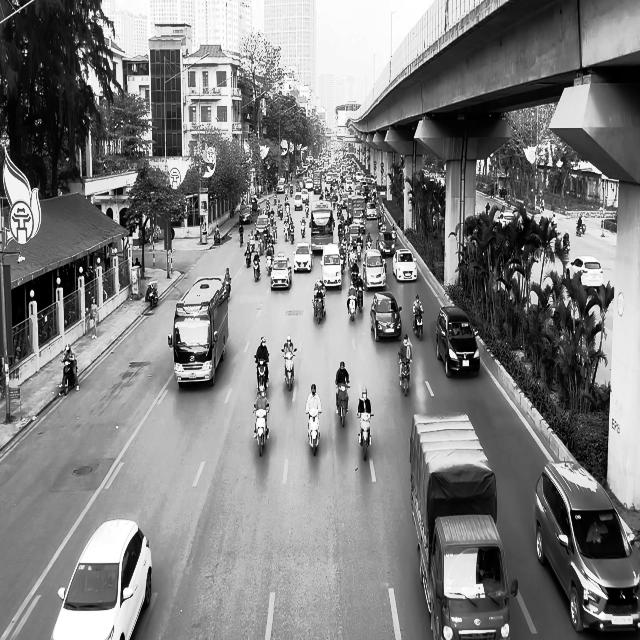bus: (167, 276, 229, 388)
car: (534, 459, 640, 633), (51, 518, 152, 639), (436, 305, 480, 378), (370, 291, 402, 342), (565, 255, 603, 293), (362, 249, 387, 290), (270, 253, 292, 290), (392, 249, 417, 281), (293, 242, 313, 272), (239, 205, 252, 224)
motorbike: (253, 406, 269, 456), (58, 359, 79, 397), (357, 412, 373, 460), (305, 410, 321, 456), (281, 348, 297, 391), (335, 383, 350, 427), (398, 352, 411, 396), (254, 356, 269, 392), (145, 281, 158, 309), (412, 308, 423, 340), (224, 277, 231, 300)
truck: (409, 412, 518, 639)
